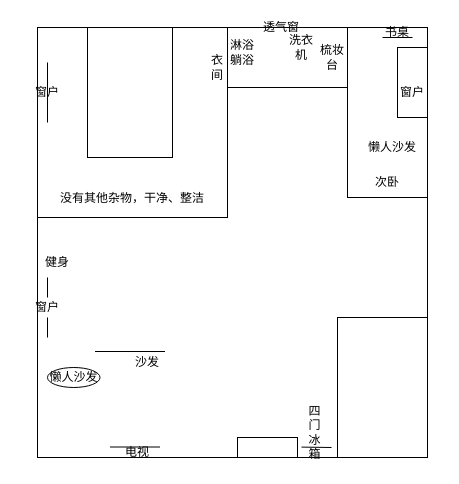
Image size: 459x484. Some labels were removed from this diagram. The box of each missing label's shape, as (x1, y1, x2, y2) in pixels:
厨房: (336, 316, 428, 458)
地床: (86, 26, 172, 158)
